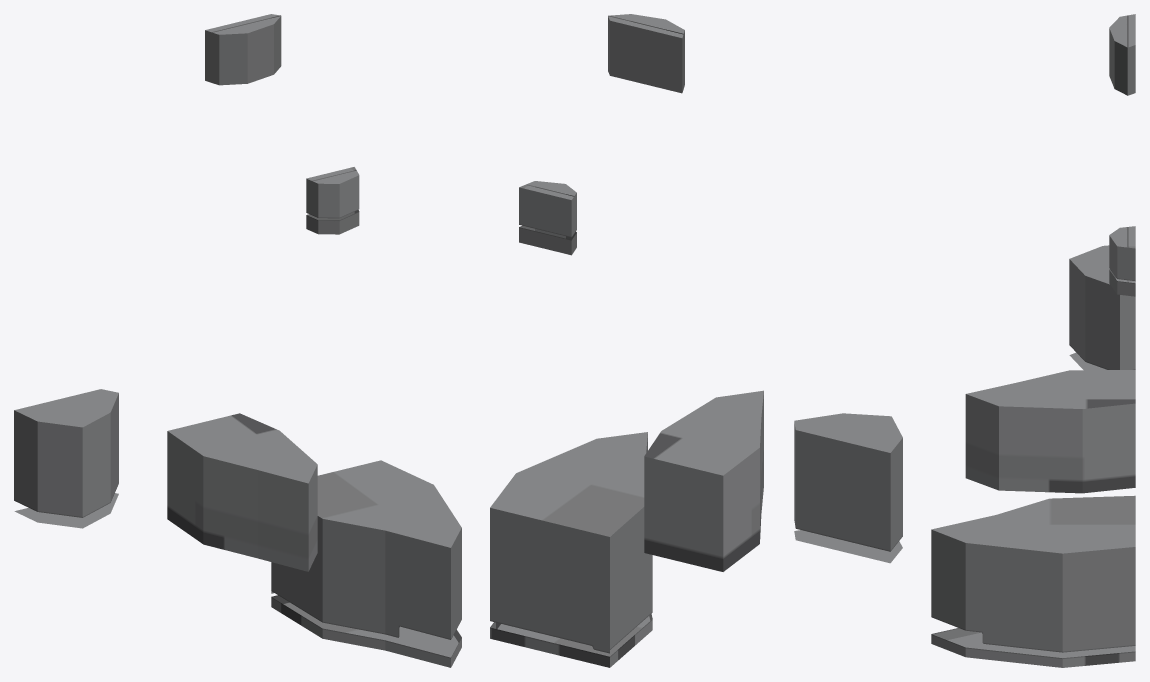
3 views of the same model, side by side, from view 1: azimuth 30°, elevation 25°; view 2: azimuth 150°, elevation 25°; view 3: azimuth 270°, elevation 25° (orthographic). The views are drawn at different scales.
Size of the model in its own units: 0.3413 by 0.5071 by 0.1663.
